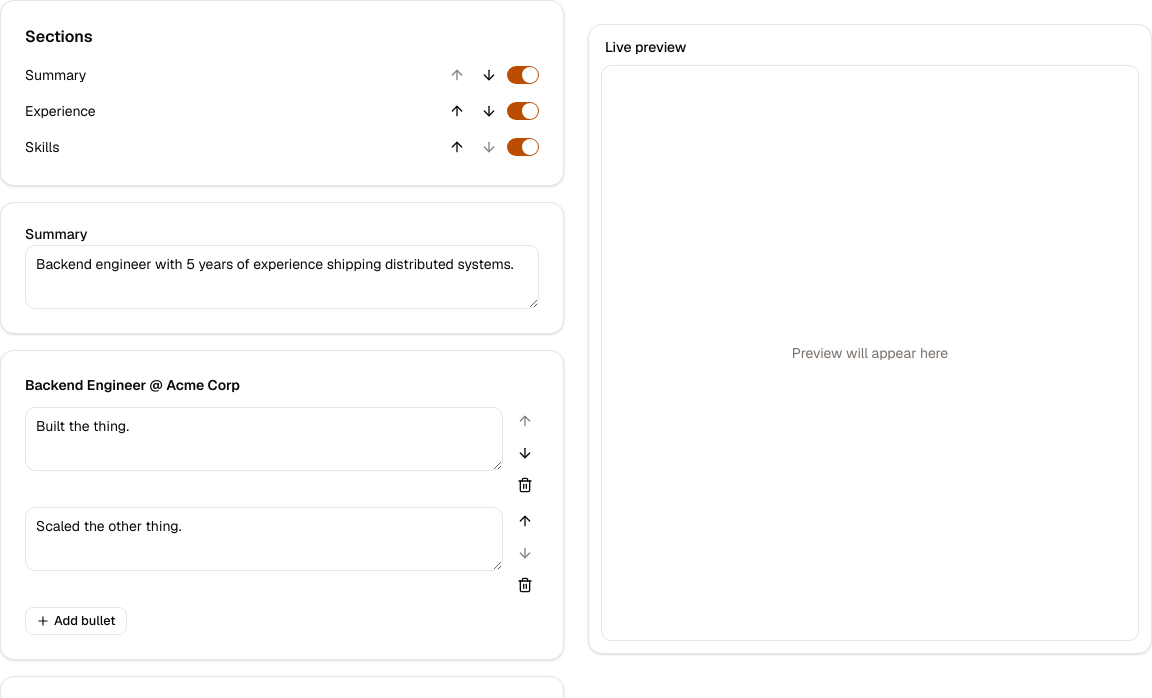
Scenario: ResumeReviewEditor › bullet editing controls › removes the bullet whose delete control is clicked
Click the 1st button named "Remove bullet": point(525, 485) [511,471,539,499]
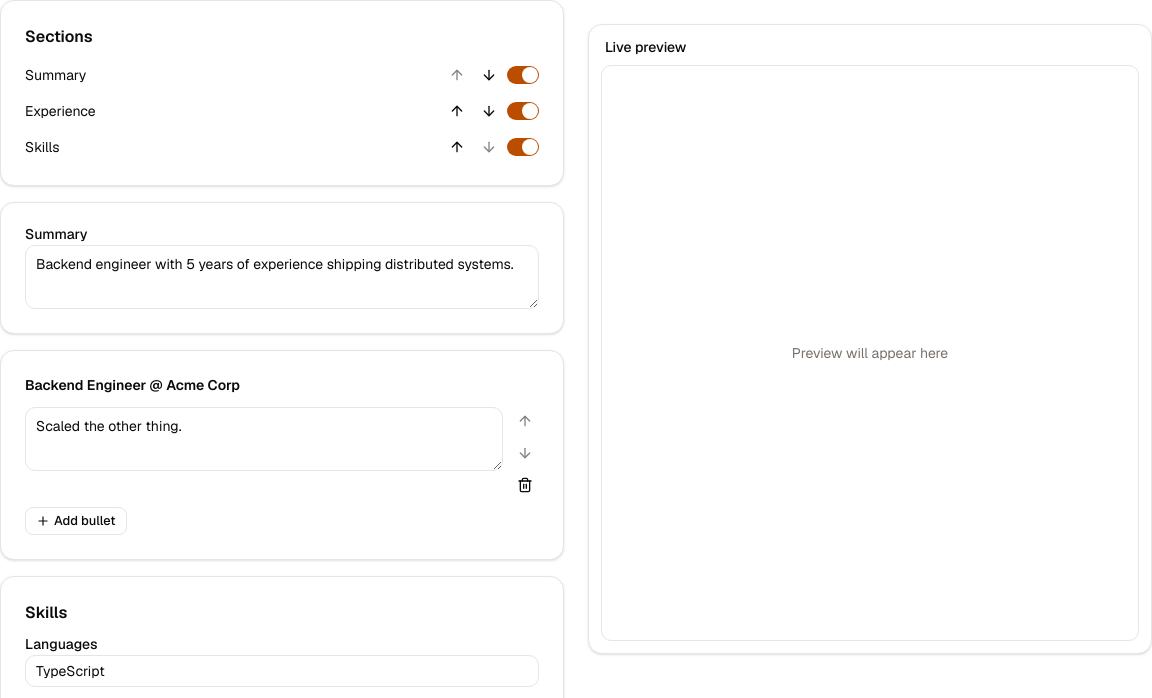
Now the 2nd text box holds "Scaled the other thing.", box [25,407,503,471]
